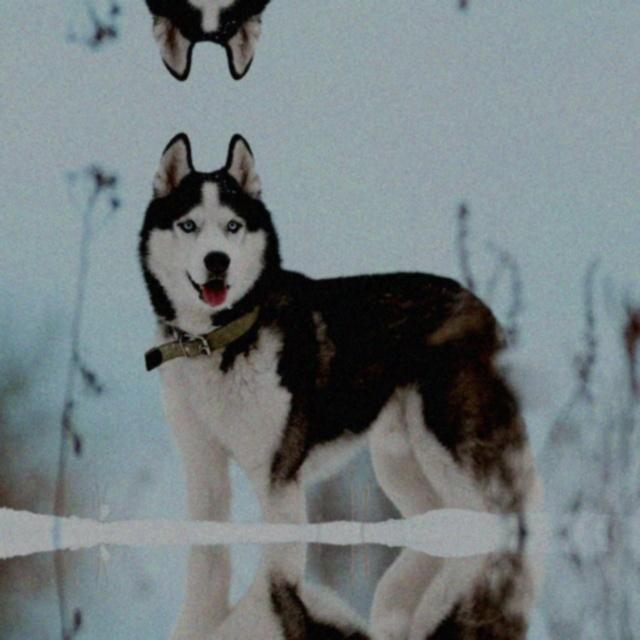dog: (125, 148, 501, 510), (125, 555, 501, 640), (125, 0, 501, 63)
